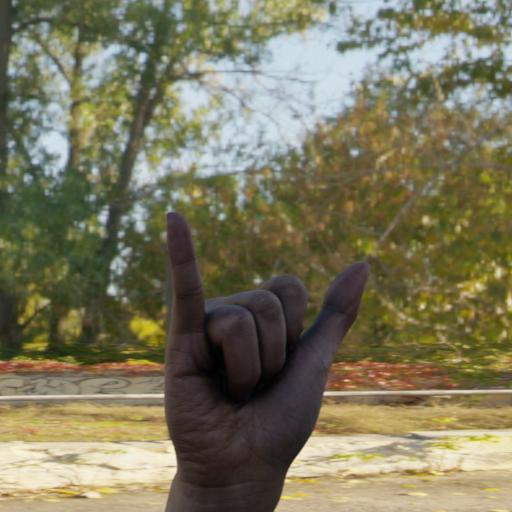Y: (150, 189, 382, 512)
